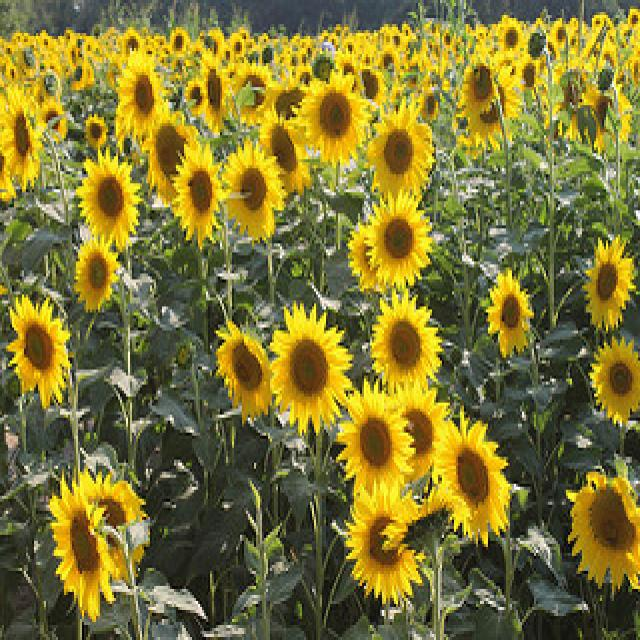sunflower: (265, 284, 352, 440), (54, 478, 117, 618), (344, 496, 421, 610), (573, 470, 640, 594), (287, 67, 367, 164), (75, 145, 143, 254), (342, 392, 410, 497), (212, 315, 276, 426), (215, 143, 288, 240), (370, 296, 438, 398), (442, 433, 507, 535), (9, 300, 73, 399), (81, 475, 148, 567), (370, 110, 431, 202), (140, 111, 198, 204), (368, 201, 429, 288), (587, 228, 640, 321), (485, 267, 538, 354), (118, 52, 165, 144), (73, 240, 126, 321), (0, 99, 44, 189), (594, 336, 640, 414), (194, 52, 234, 132), (236, 59, 270, 120), (464, 52, 497, 111), (358, 67, 389, 105)
